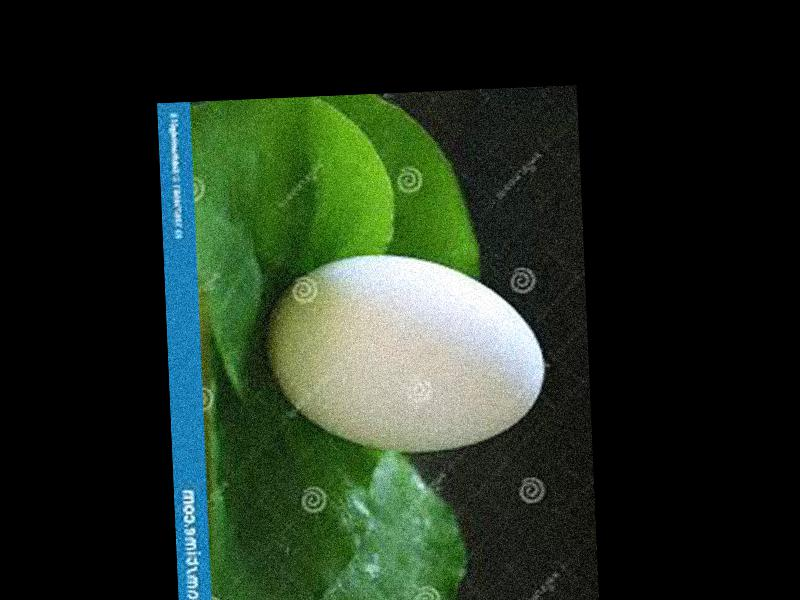Eggs: (264, 247, 547, 458)
